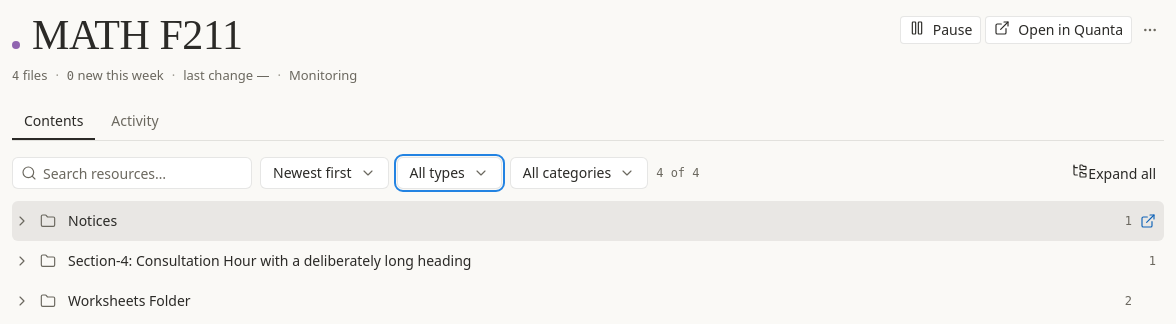
Test case: CoursePage tree › filters by file type through the select
Press Enter in the dropdown labelled "All types", box [396,157,502,189]
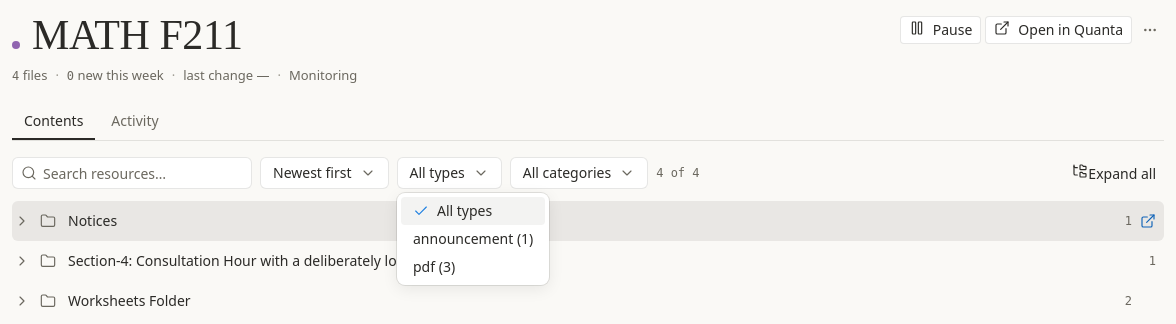
Click the option with class "select-item" showing "announcement (1)".
click(473, 238)  # box [413,229,533,248]
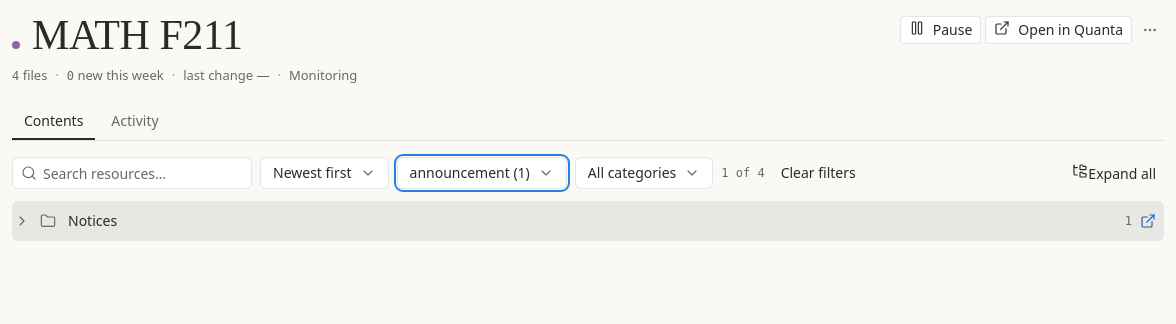
Expected: the text "Notice" is shown, [64,211,1117,231]
Now the text with class "result-count" reads "1 of 4", box [721,163,765,183]
